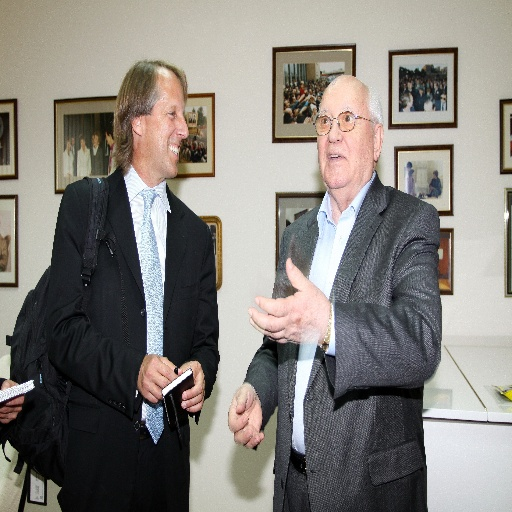hand: (249, 269, 341, 353), (227, 382, 265, 450), (136, 351, 183, 402), (178, 361, 204, 412), (302, 115, 309, 124), (66, 172, 71, 175)
